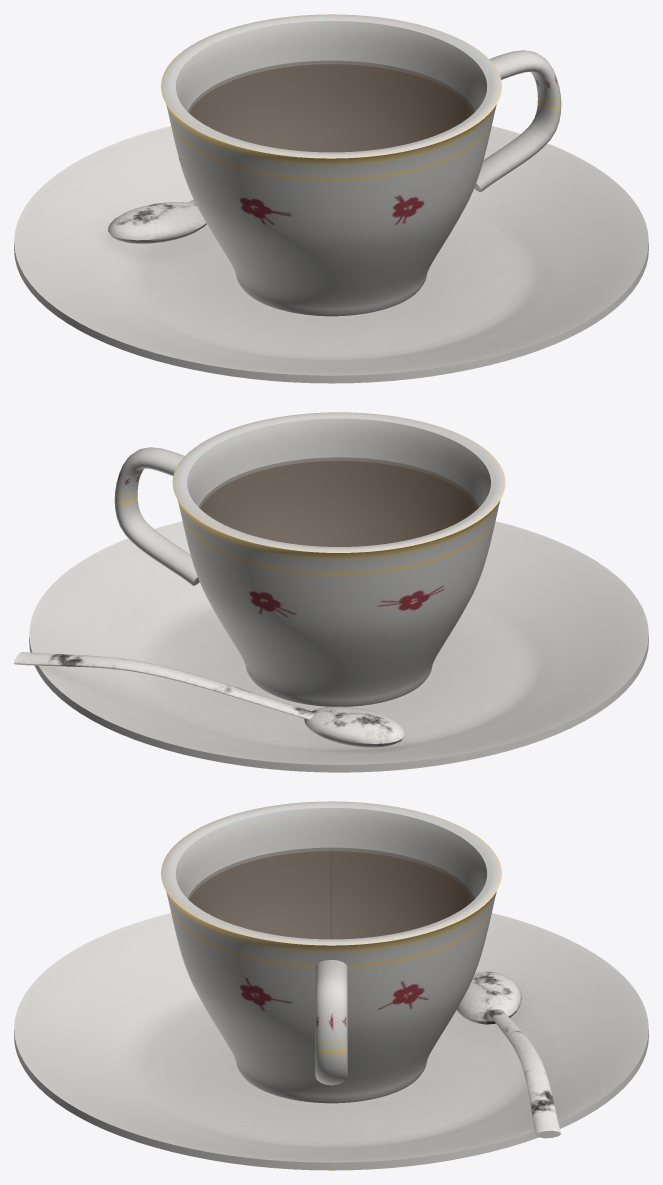
The model's file is cup_and_saucer.glb.
3 views of the same model, one above another, from view 1: azimuth 30°, elevation 25°; view 2: azimuth 150°, elevation 25°; view 3: azimuth 270°, elevation 25° (orthographic). The views are drawn at different scales.
Visible parts, largest first — view 1: cup_and_saucer; view 2: cup_and_saucer; view 3: cup_and_saucer.
Part boxes in pixels (x1,y1,x2,y2): cup_and_saucer: (14, 14, 648, 383); cup_and_saucer: (14, 412, 648, 772); cup_and_saucer: (14, 801, 648, 1170).
Bounding box in the file's own units: 0.1754 × 0.0637 × 0.1754.
2 materials, 1 textured.
